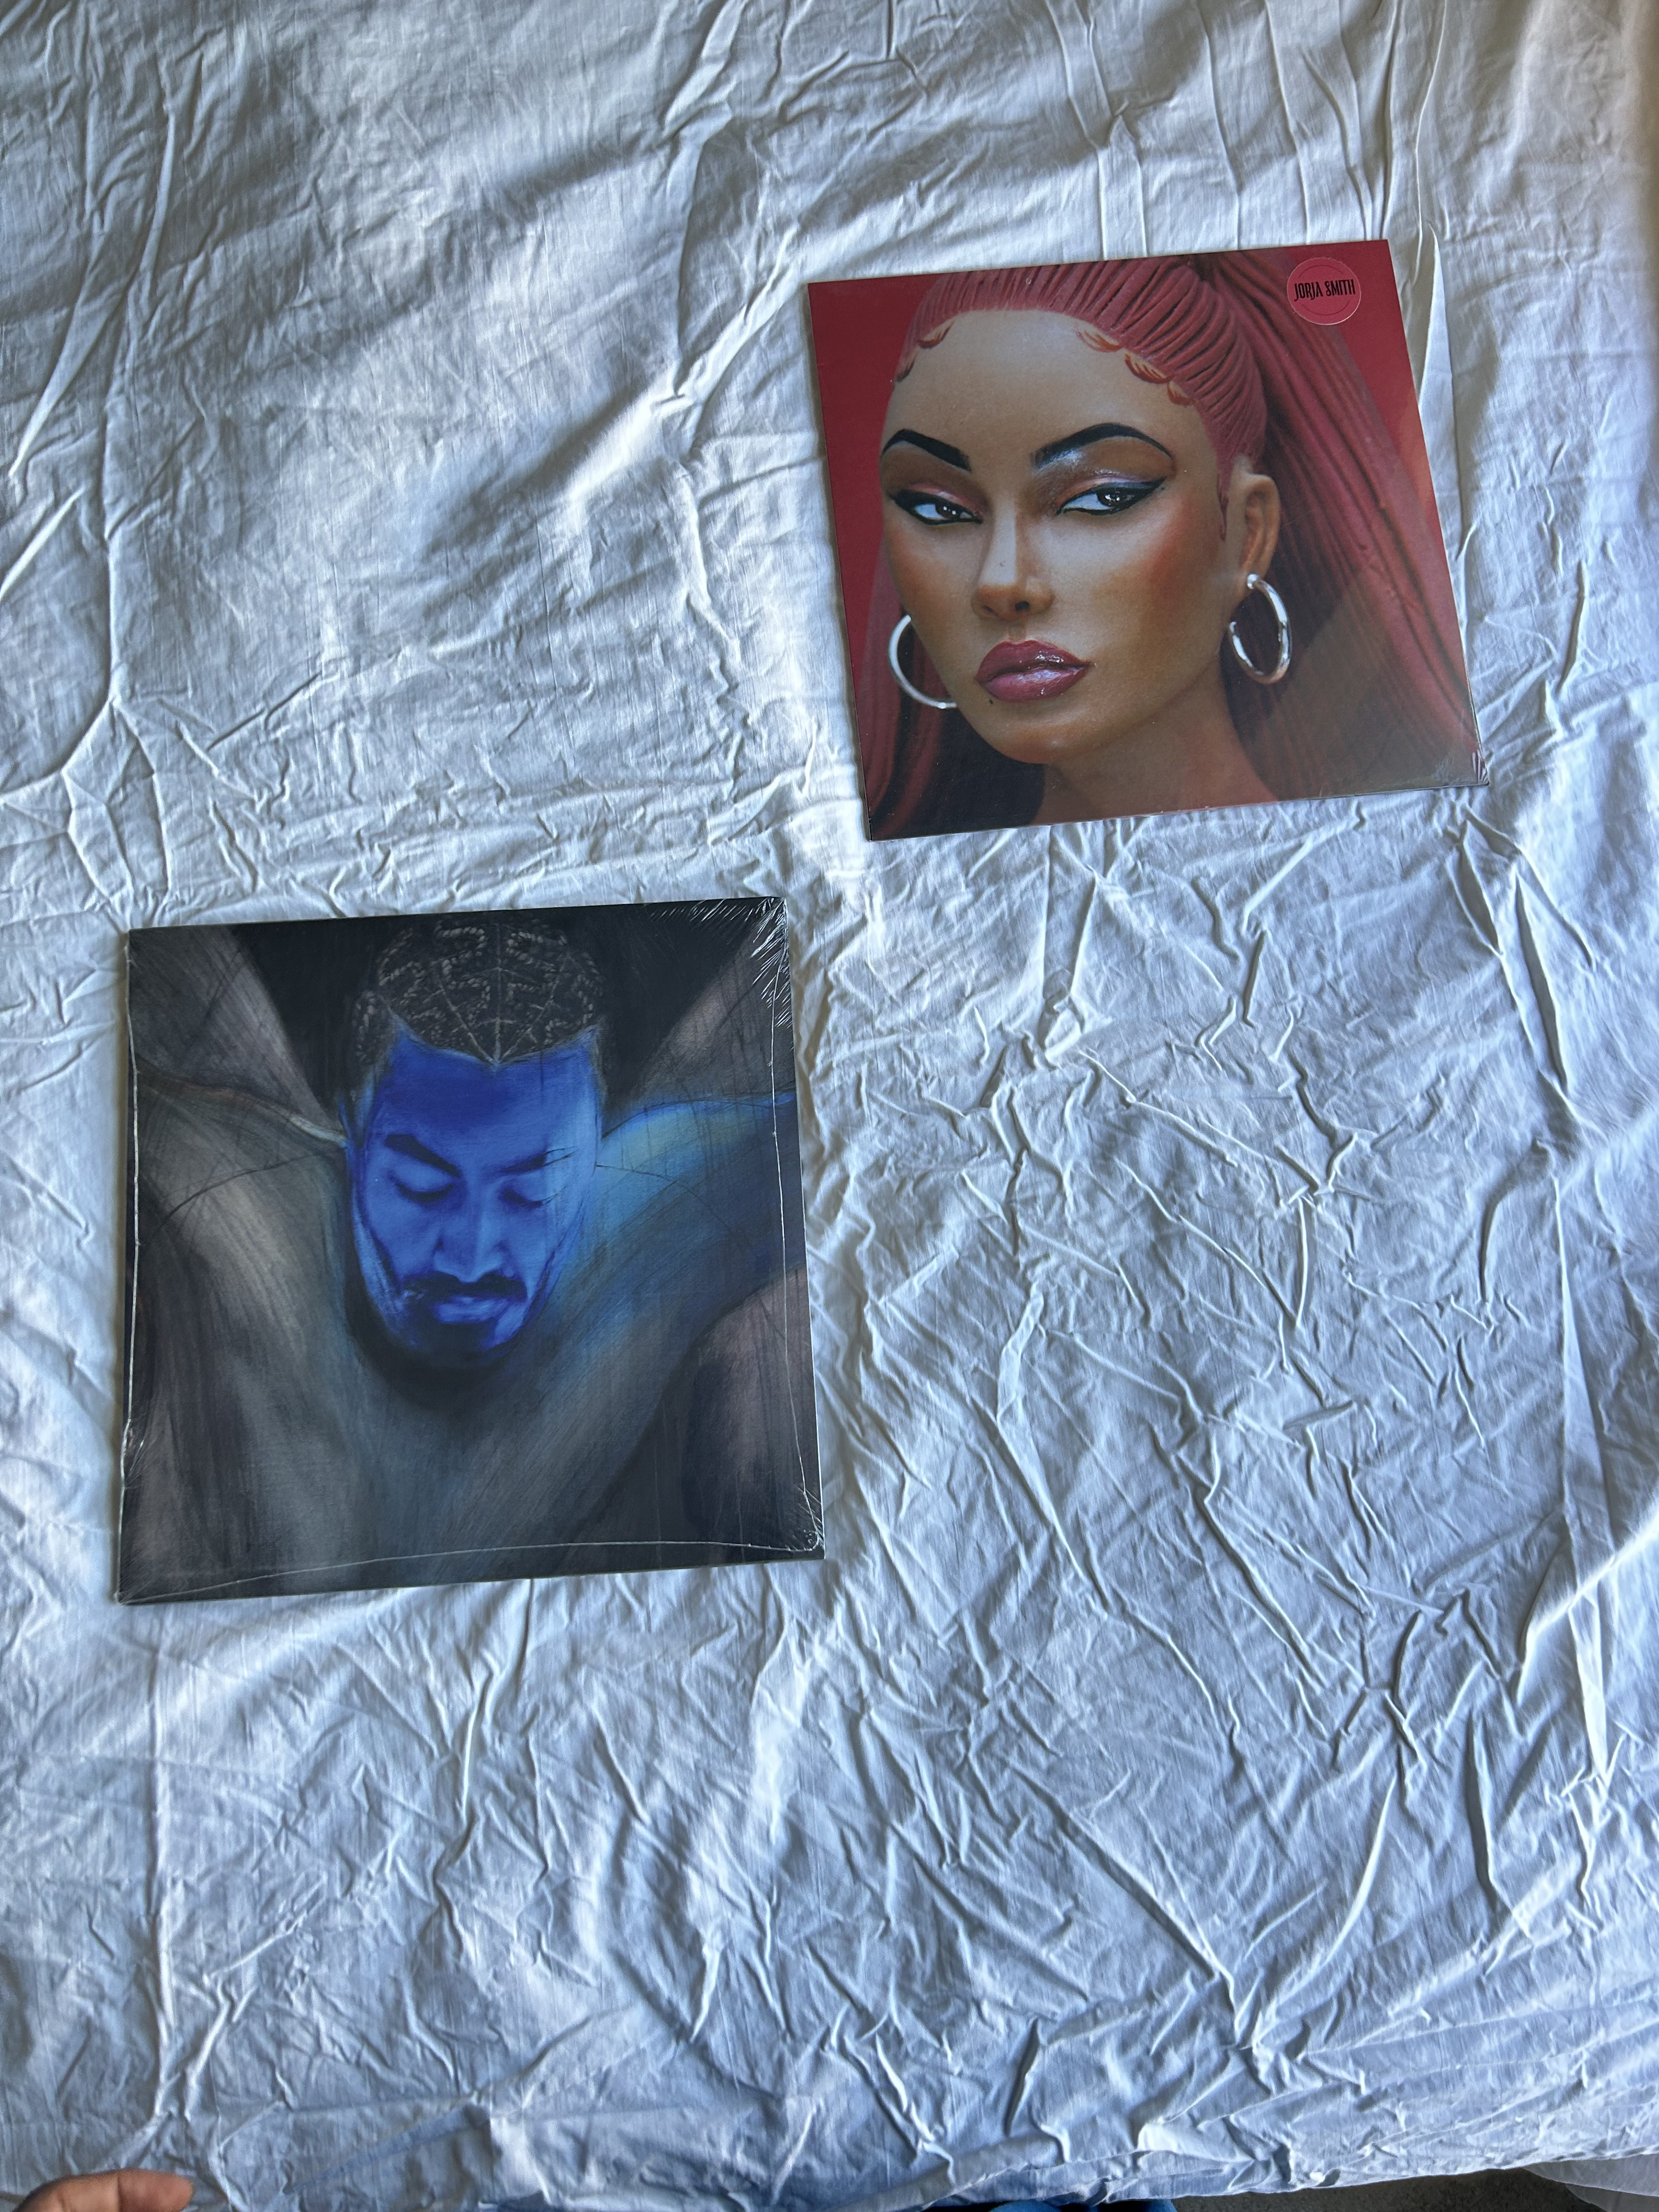jorja smith_be right back: (803, 284, 1436, 843)
navy blue_song of sage: post panic!: (80, 920, 791, 1604)
